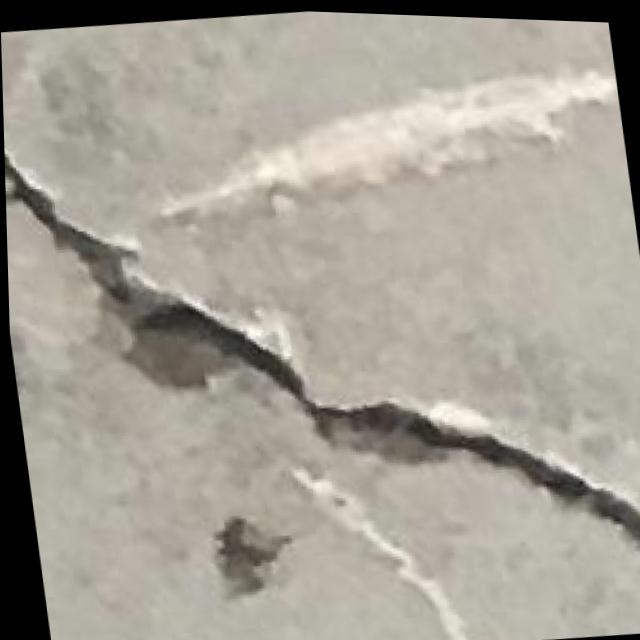Crack: (1, 59, 640, 632)
